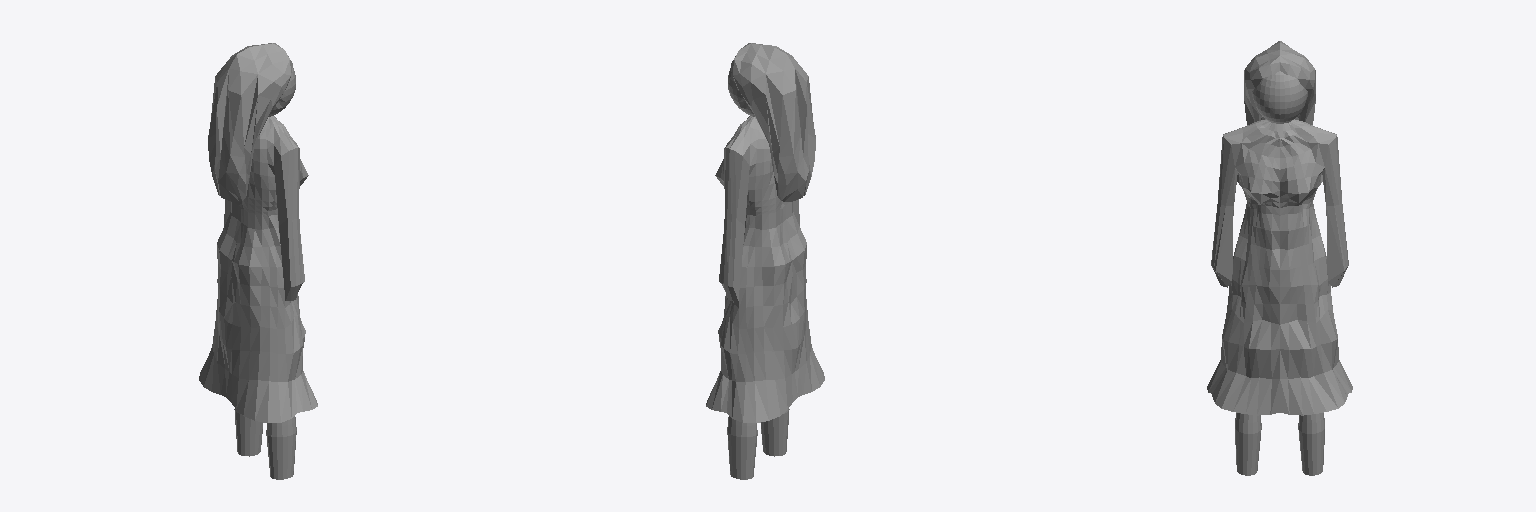
The model's file is Woman.obj.
3 views of the same model, side by side, from view 1: azimuth 30°, elevation 25°; view 2: azimuth 150°, elevation 25°; view 3: azimuth 270°, elevation 25° (orthographic).
Parts seen in each view (by area): view 1: Body_Cylinder.003; view 2: Body_Cylinder.003; view 3: Body_Cylinder.003.
Boxes of the visible parts, <box> form: Body_Cylinder.003: <box>199,43,317,479</box>; Body_Cylinder.003: <box>706,43,824,479</box>; Body_Cylinder.003: <box>1207,41,1352,475</box>.
Bounding box in the file's own units: 0.8098 × 3.93 × 1.24.